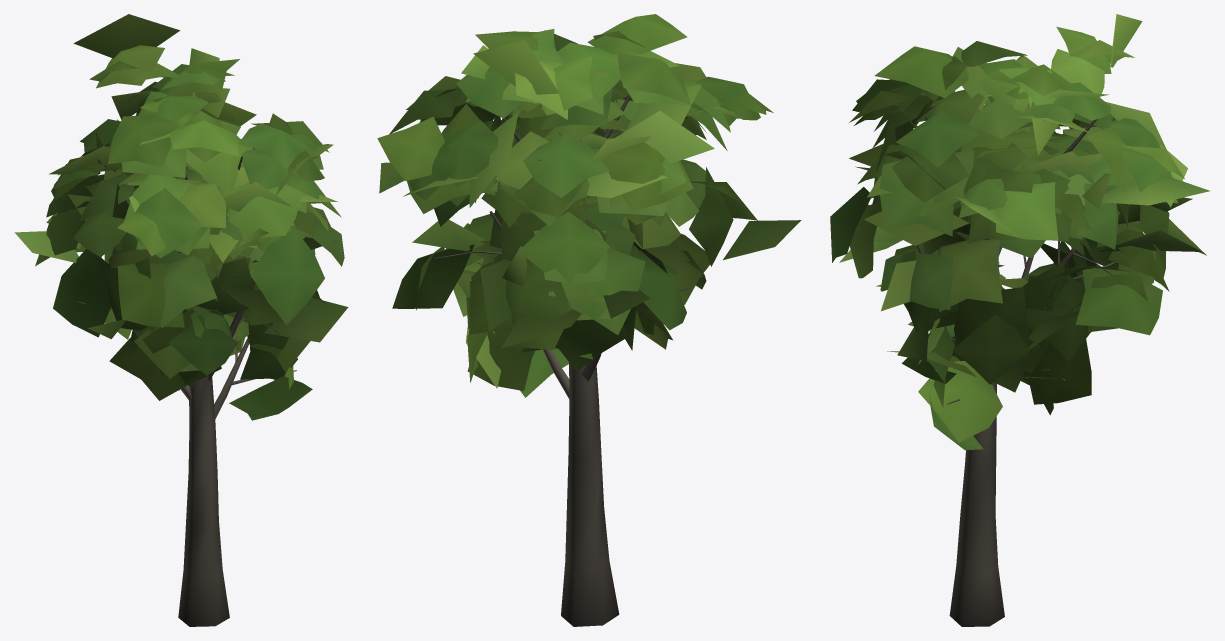
The model's file is lime-b.lod1.glb.
3 renders of one model, left to right at view 1: azimuth 30°, elevation 25°; view 2: azimuth 150°, elevation 25°; view 3: azimuth 270°, elevation 25°, orthographic. The views are drawn at different scales.
Bounding box in the file's own units: 5.51 × 10.38 × 5.98.
